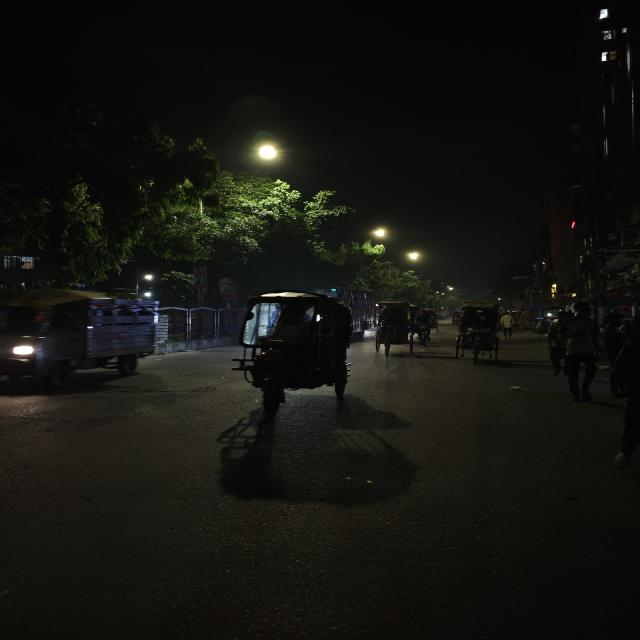human_hauler: (0, 283, 165, 395)
pedestrian: (551, 302, 608, 404), (606, 308, 640, 411), (497, 310, 517, 341)
rickshaw: (224, 283, 366, 413), (368, 299, 439, 356), (451, 302, 507, 364)
